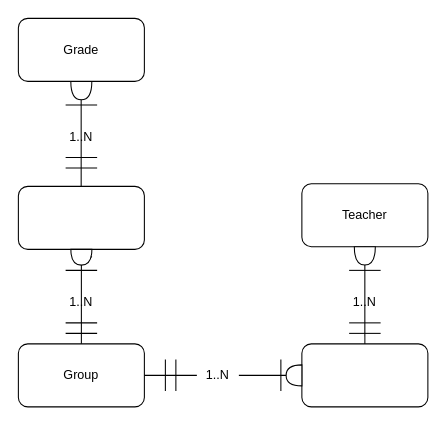
This 446x425 diagram has some shape labels left out. Here are the shapes that lost their labels. From the top down, the centre of each, then its label:
At [80,217]: "Student".
At [364,375]: "Subject".
